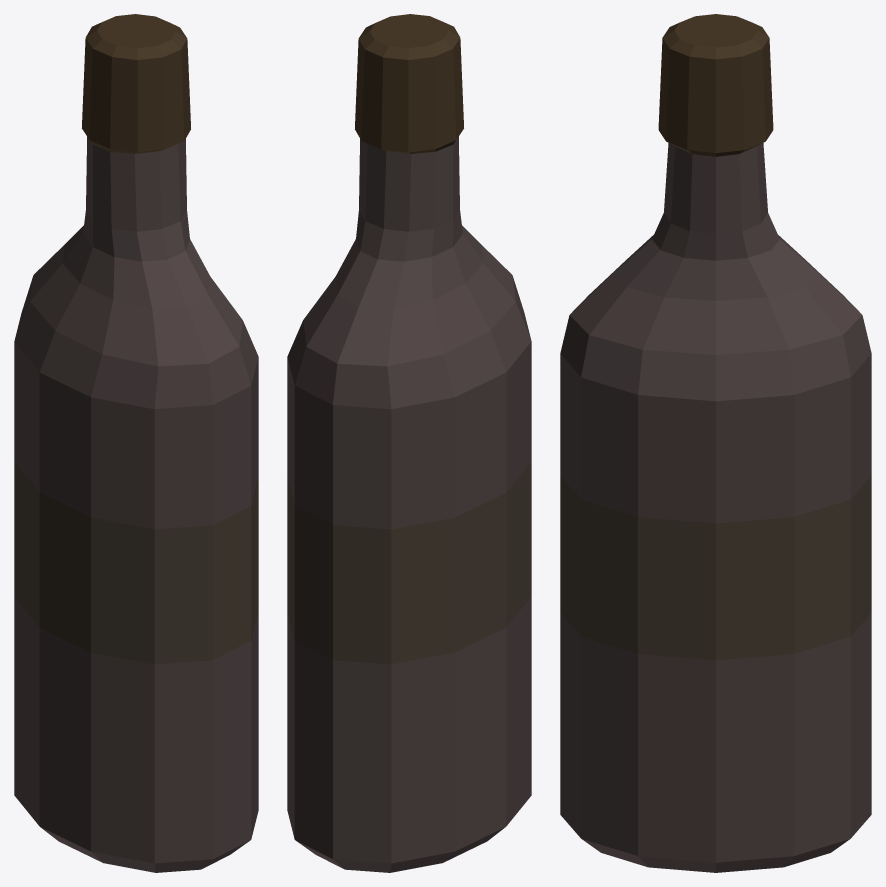
File: pudel.fbx
The picture shows the model from 3 angles, left to right: view 1: azimuth 30°, elevation 25°; view 2: azimuth 150°, elevation 25°; view 3: azimuth 270°, elevation 25°; orthographic projection.
Visible parts, largest first — view 1: Cylinder; view 2: Cylinder; view 3: Cylinder.
Part boxes in pixels (bbox=[...]): Cylinder: bbox=[14, 14, 258, 872]; Cylinder: bbox=[287, 14, 531, 872]; Cylinder: bbox=[560, 14, 871, 872].
Bounding box in the file's own units: 2 × 2.75 × 7.82.
